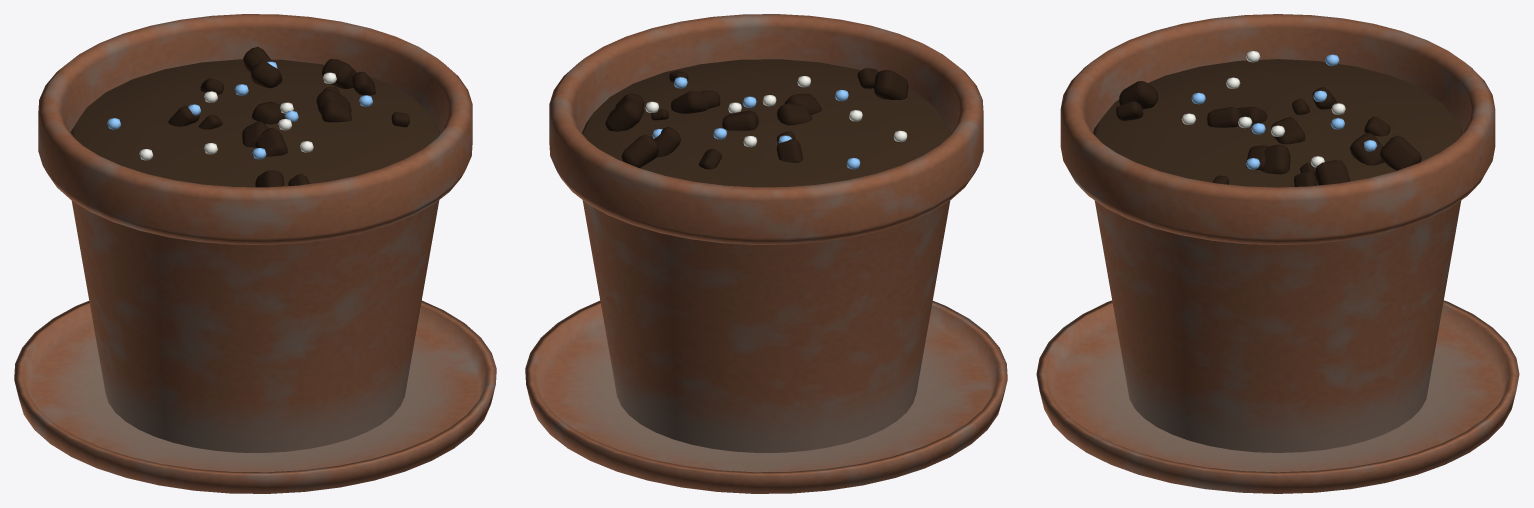
Rendered from doniczka.glb.
3 renders of one model, left to right at view 1: azimuth 30°, elevation 25°; view 2: azimuth 150°, elevation 25°; view 3: azimuth 270°, elevation 25°, orthographic.
Visible parts, largest first — view 1: Pot, Soil, Clods, FertMesh; view 2: Pot, Soil, Clods, FertMesh; view 3: Pot, Soil, Clods, FertMesh.
Part boxes in pixels (x1,y1,x2,y2): Pot: (14,14,496,493); Soil: (70,59,439,187); Clods: (168,47,409,187); FertMesh: (107,61,372,160); Pot: (525,14,1007,493); Soil: (582,59,951,187); Clods: (605,68,908,169); FertMesh: (645,76,907,169); Pot: (1036,14,1519,493); Soil: (1093,59,1462,187); Clods: (1116,81,1421,186); FertMesh: (1181,51,1377,169).
Size of the model in its own units: 0.4 by 0.271 by 0.4.
5 materials, 1 textured.
